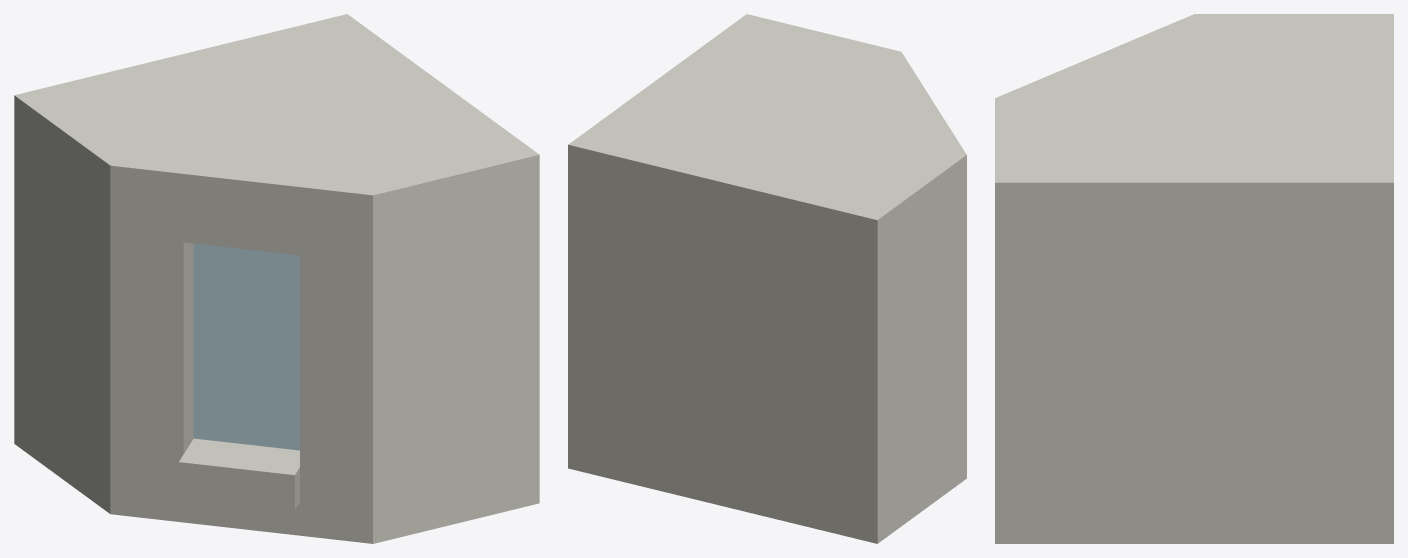
File: Building Story 17.fbx
The picture shows the model from 3 angles, left to right: view 1: azimuth 30°, elevation 25°; view 2: azimuth 150°, elevation 25°; view 3: azimuth 270°, elevation 25°; orthographic projection. The views are drawn at different scales.
Visible parts, largest first — view 1: Building Story 17; view 2: Building Story 17; view 3: Building Story 17.
Part boxes in pixels (<box>): Building Story 17: <box>14,14,539,543</box>; Building Story 17: <box>568,14,966,543</box>; Building Story 17: <box>995,14,1393,543</box>.
Size of the model in its own units: 1 by 1 by 1.
